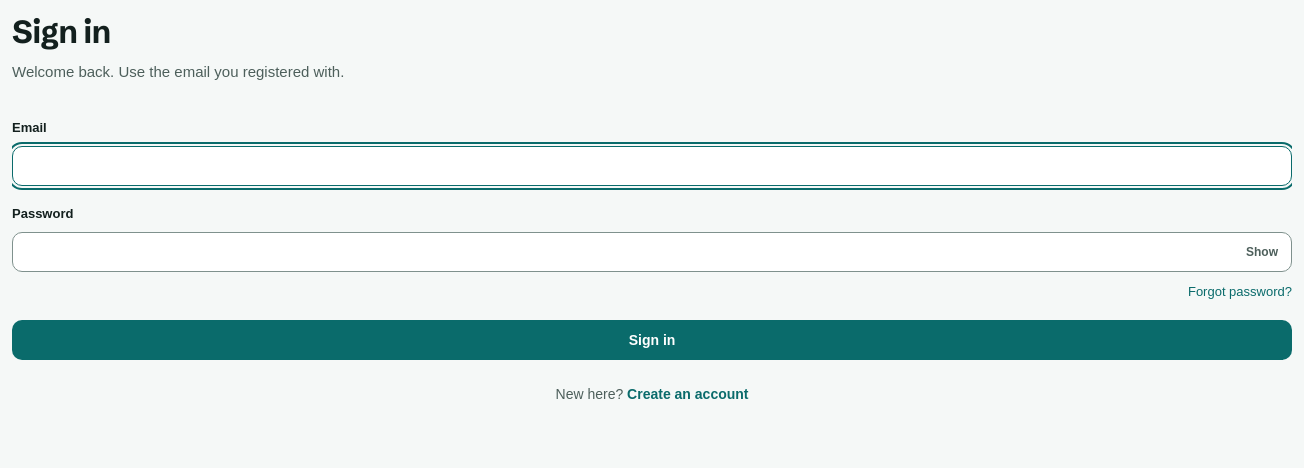
Test: LoginForm › shows the API message when the credentials are wrong
This screenshot has width=1304, height=468.
In the field labelled "Email": (652, 166) [12,146,1292,186], type "a@b.co"
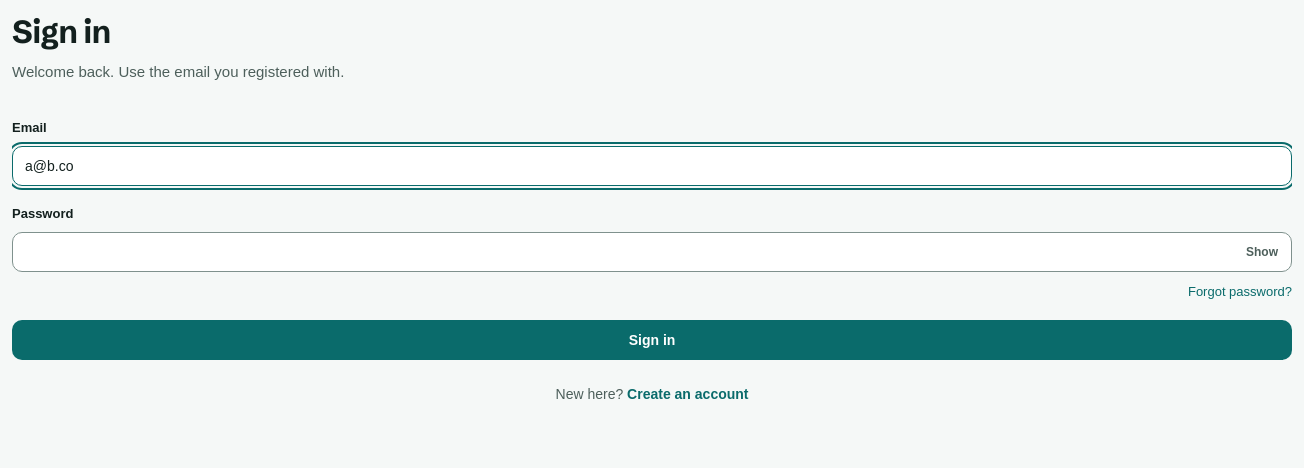
In the password field labelled "Password": (652, 252) [12,232,1292,272], type "x"
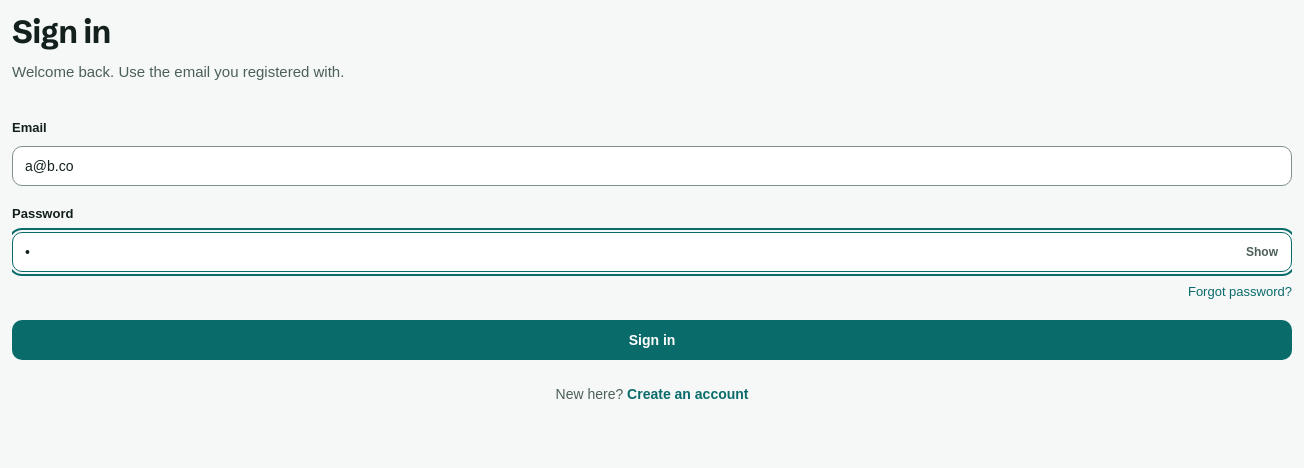
Click the button "Sign in": (652, 340) [12,320,1292,360]
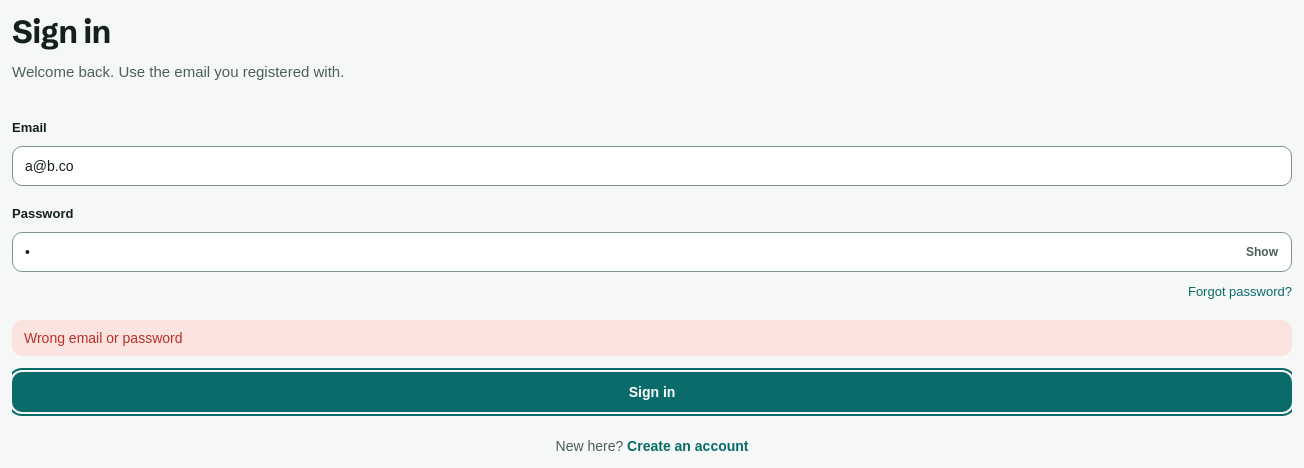
Now the message reads "Wrong email or password", box [24,330,182,346]
